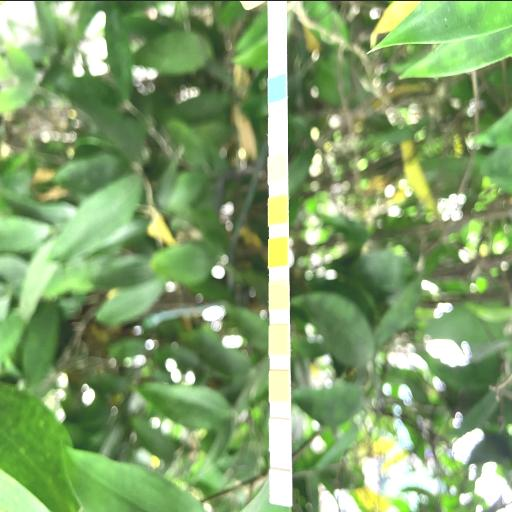Bilirubin: (268, 117, 287, 138)
Blood: (268, 239, 288, 265)
Glucose: (268, 78, 286, 98)
Ketone: (268, 156, 288, 178)
Leukocytes: (270, 471, 292, 501)
Nitrite: (270, 420, 290, 450)
Protein: (269, 325, 290, 355)
SpGravity: (268, 198, 288, 222)
Urobilinogen: (268, 371, 290, 401)
pH: (269, 280, 289, 308)
strip: (267, 6, 292, 505)
